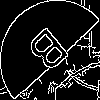B: (25, 25, 77, 82)
